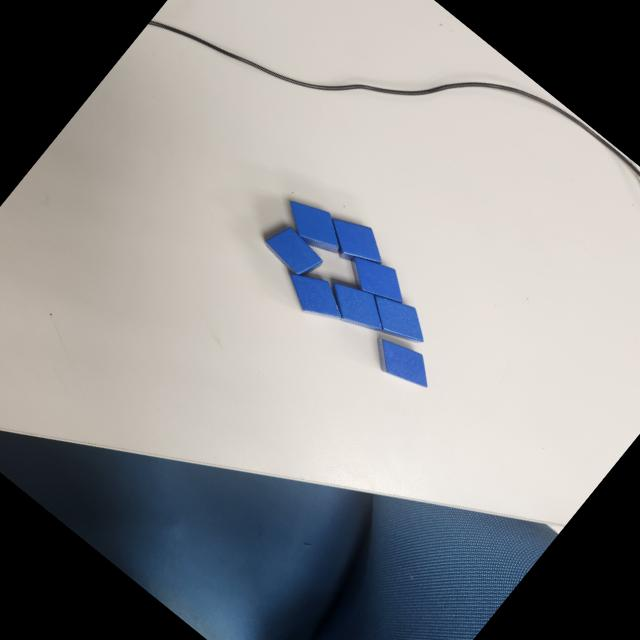blue: (316, 270, 397, 346), (316, 204, 396, 280), (275, 188, 354, 264), (358, 283, 437, 358), (276, 260, 354, 334), (363, 326, 441, 399), (338, 244, 416, 317), (259, 220, 328, 285)
